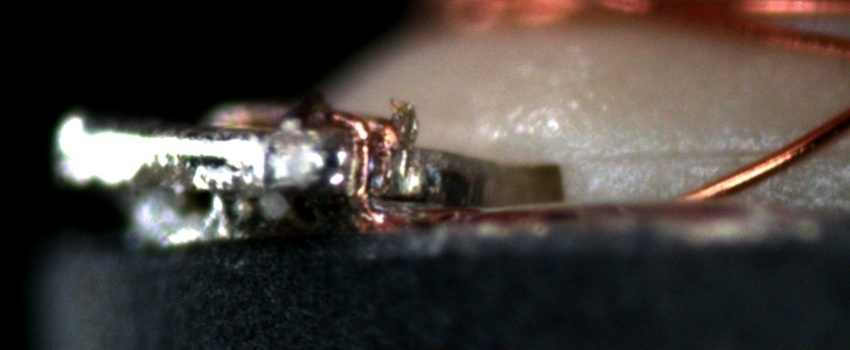DL: (598, 123, 849, 179)
TE: (319, 98, 421, 224)
